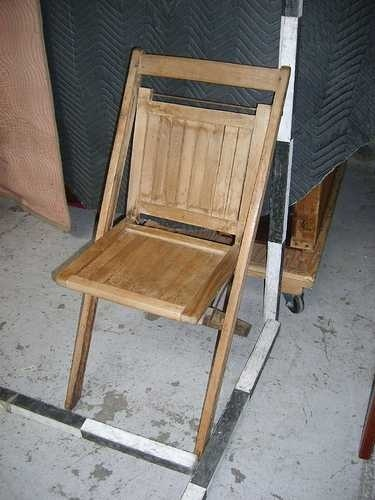obstacle: (53, 49, 289, 455)
